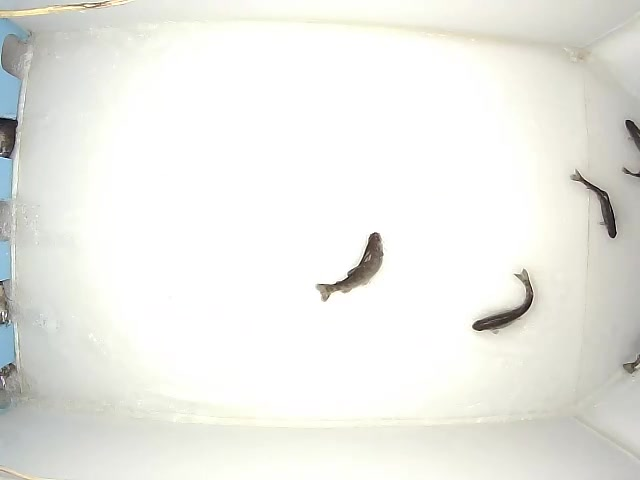fish: (313, 231, 385, 302), (470, 267, 535, 335), (569, 168, 617, 239)
